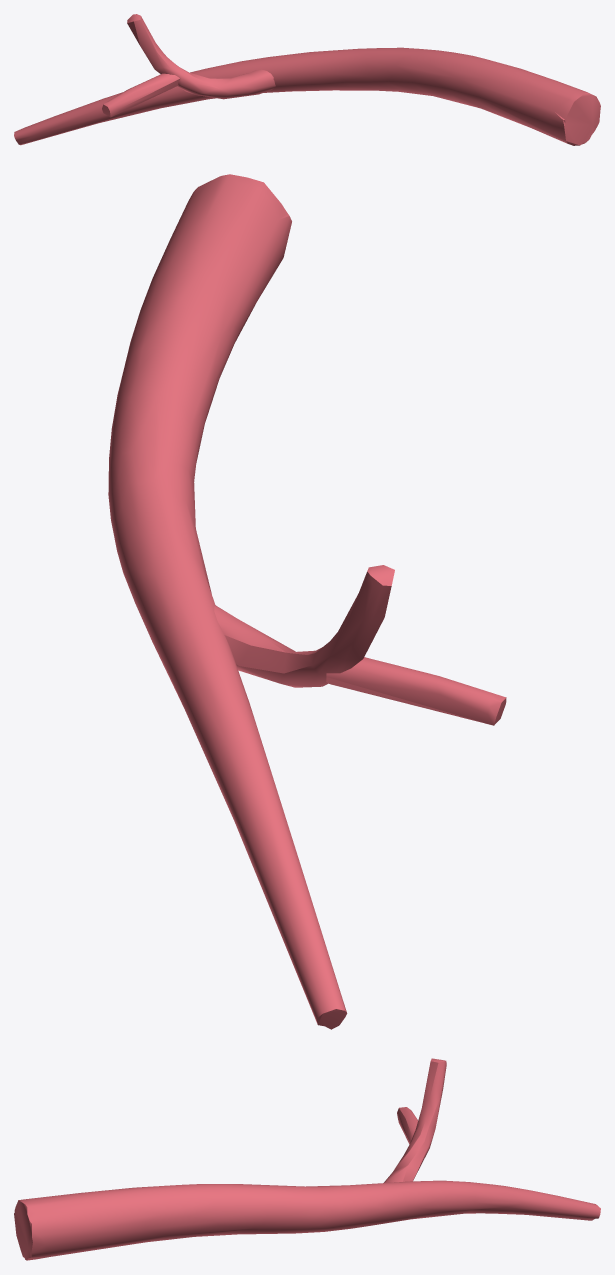
File: fma68712_cx186.glb
The picture shows the model from 3 angles, top to bottom: view 1: azimuth 30°, elevation 25°; view 2: azimuth 150°, elevation 25°; view 3: azimuth 270°, elevation 25°; orthographic projection. The views are drawn at different scales.
Parts seen in each view (by area): view 1: FMA68712_CX186; view 2: FMA68712_CX186; view 3: FMA68712_CX186.
Boxes of the visible parts, x1,y1,x2,y2 form: FMA68712_CX186: [14, 14, 600, 145]; FMA68712_CX186: [108, 174, 506, 1029]; FMA68712_CX186: [14, 1058, 600, 1260].
Bounding box in the file's own units: 0.048 × 0.0232 × 0.0663.
